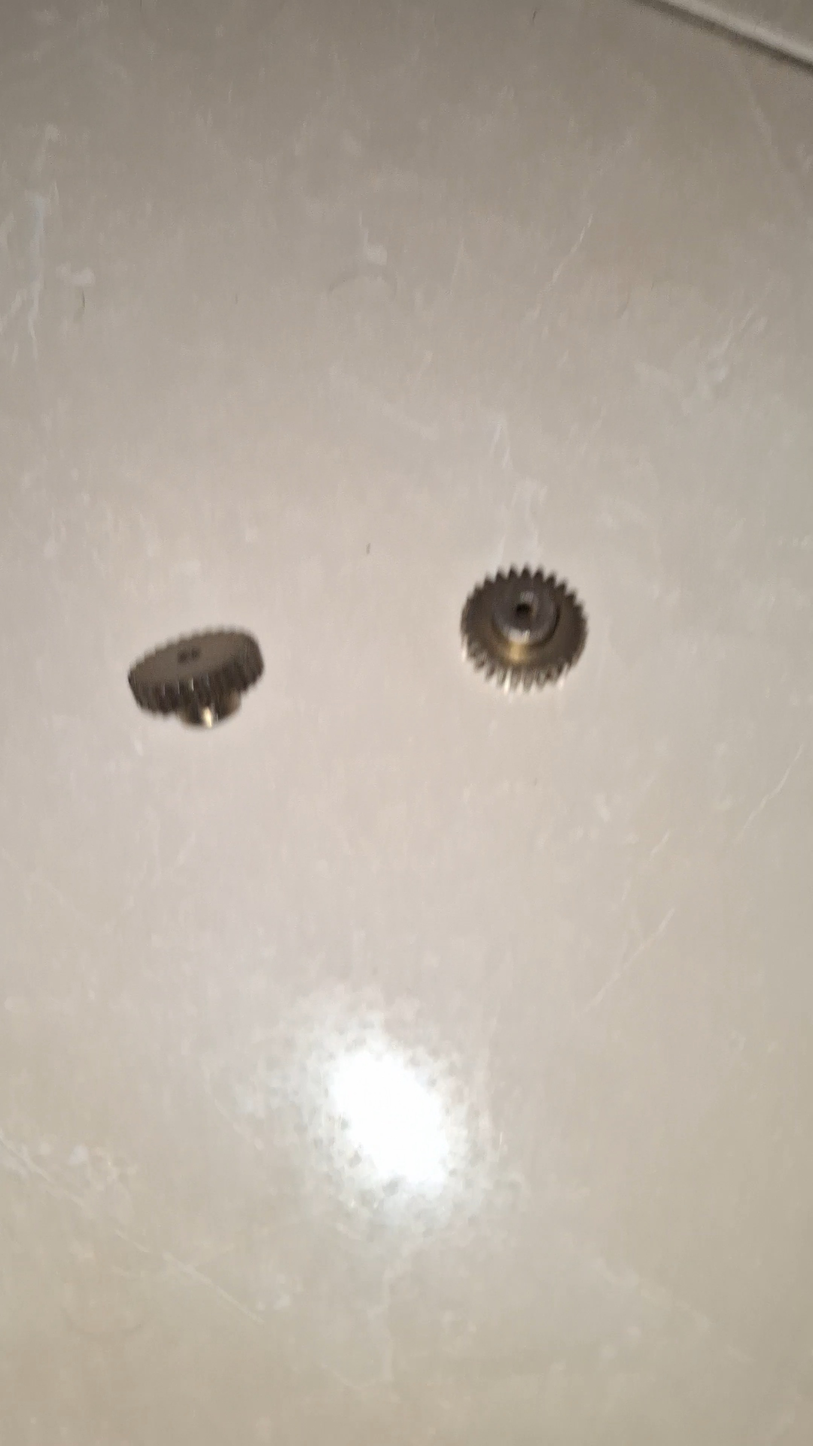spur gear: (461, 569, 586, 689), (128, 630, 263, 727)
